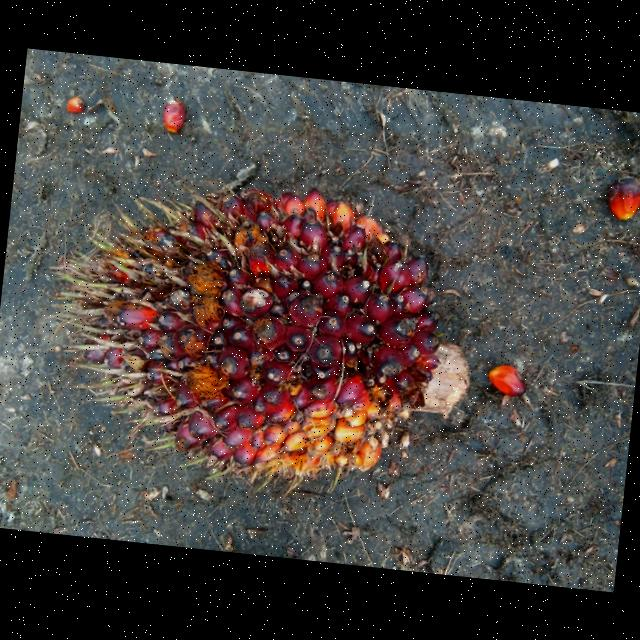Ripe: (58, 190, 467, 489)
